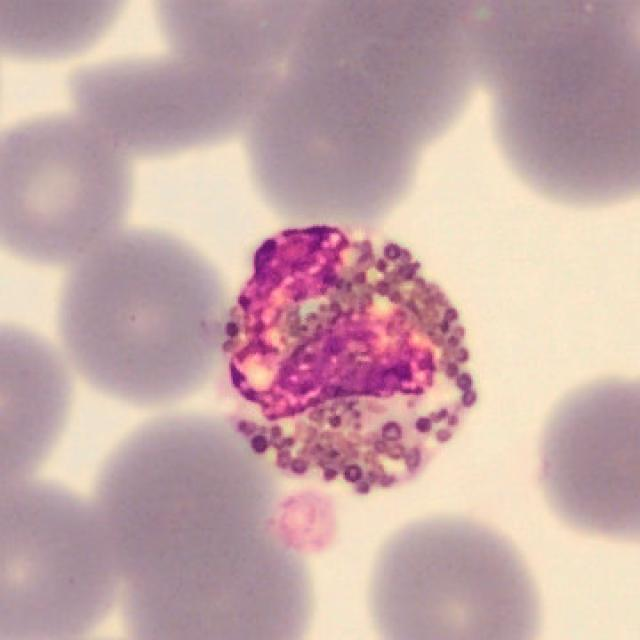Eosinofilo: (215, 226, 476, 496)
